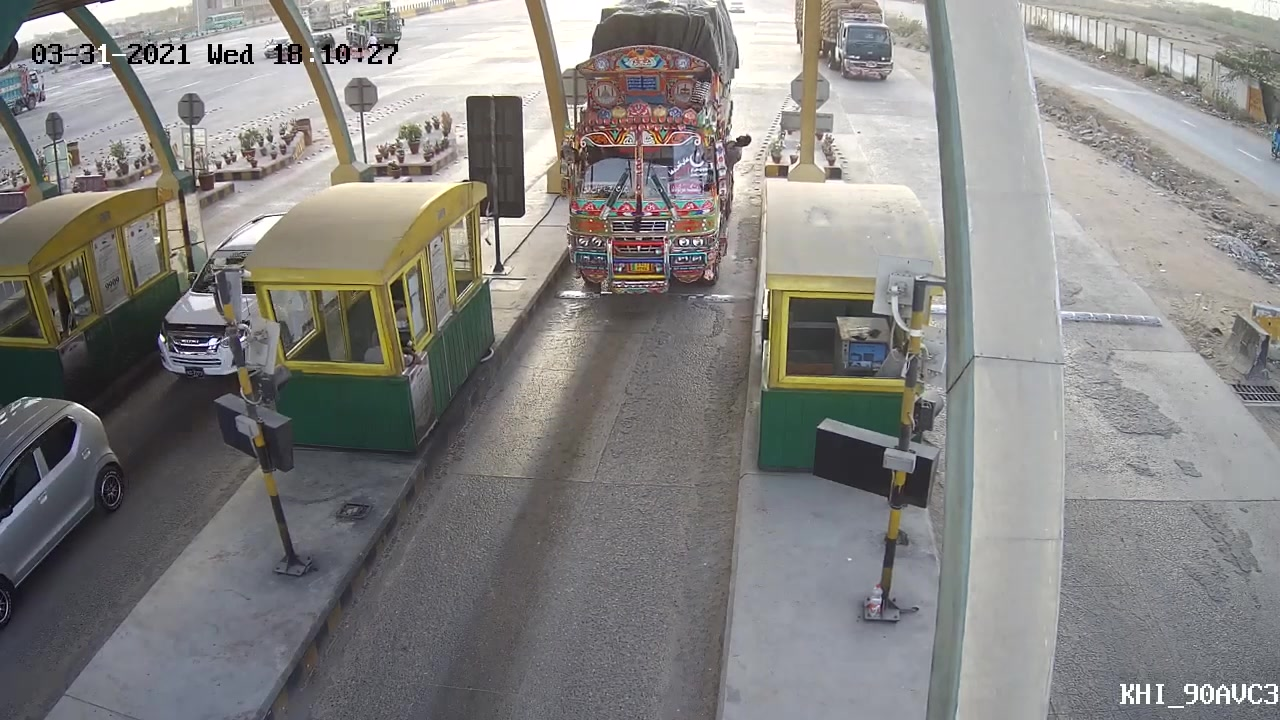F5: (539, 20, 744, 300)
